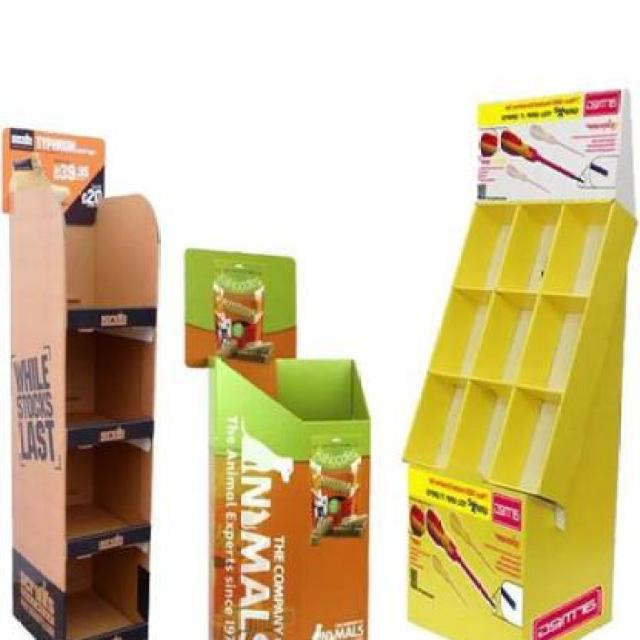box: (396, 56, 638, 640), (3, 79, 172, 640), (180, 188, 377, 640)
